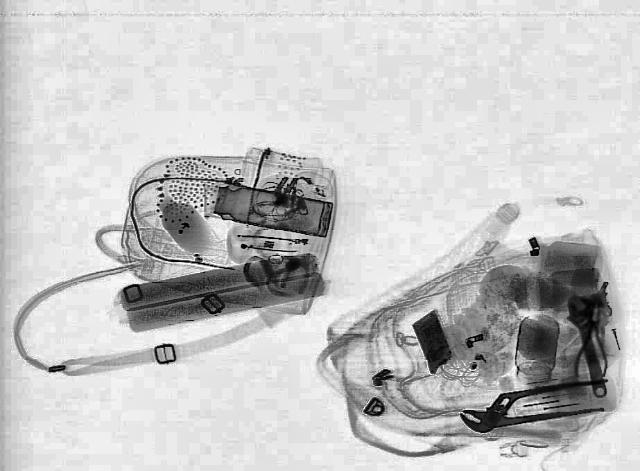Wrench: (562, 296, 618, 400)
